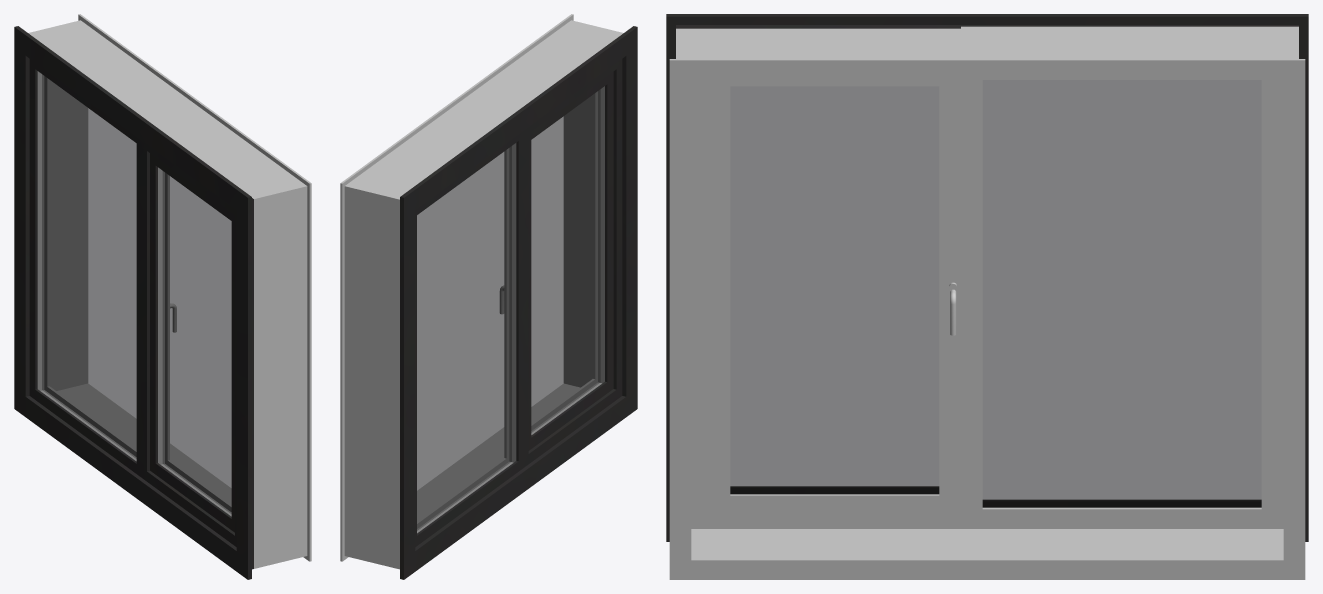
File: Window 20x18.fbx
3 views of the same model, side by side, from view 1: azimuth 30°, elevation 25°; view 2: azimuth 150°, elevation 25°; view 3: azimuth 270°, elevation 25° (orthographic). The views are drawn at different scales.
Visible parts, largest first — view 1: Group4, Group2, Group3, Group5; view 2: Group4, Group2, Group3, Group5; view 3: Group3, Group2, Group4, Group5.
Boxes of the visible parts, x1=… form: Group4: x1=28, y1=14, x2=311, y2=568; Group2: x1=38, y1=72, x2=231, y2=515; Group3: x1=42, y1=75, x2=230, y2=512; Group5: x1=14, y1=26, x2=253, y2=579; Group4: x1=340, y1=14, x2=623, y2=569; Group2: x1=417, y1=86, x2=604, y2=532; Group3: x1=417, y1=90, x2=599, y2=530; Group5: x1=400, y1=26, x2=637, y2=579; Group3: x1=730, y1=80, x2=1261, y2=507; Group2: x1=731, y1=80, x2=1260, y2=506; Group4: x1=669, y1=26, x2=1305, y2=579; Group5: x1=666, y1=14, x2=1308, y2=541.
Size of the model in its own units: 330 by 1860 by 2060.
Materials: 3 (2 with a texture image).
